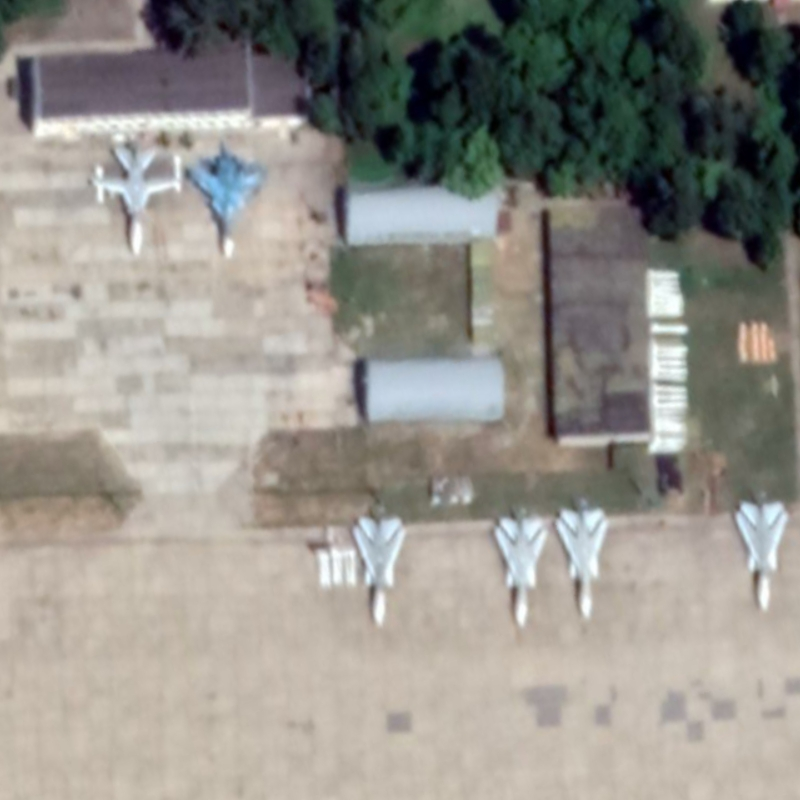A19: (188, 137, 270, 262)
A20: (89, 143, 182, 256), (491, 512, 551, 628), (349, 514, 407, 630), (732, 498, 790, 614), (553, 505, 611, 620)
